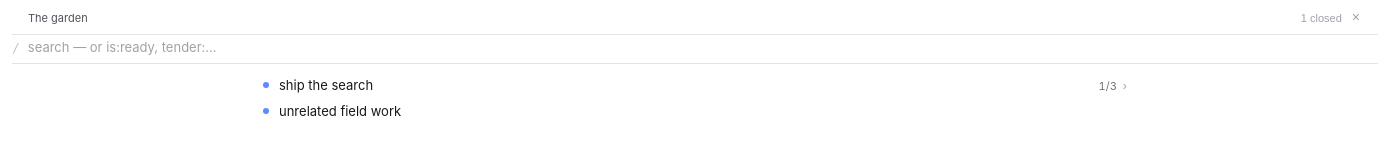
Test: GardenPanel search › shows the line of body that answered the query
Step 1. Type "line of type" into the dropdown → (699, 47), box [28,37,1370,57]
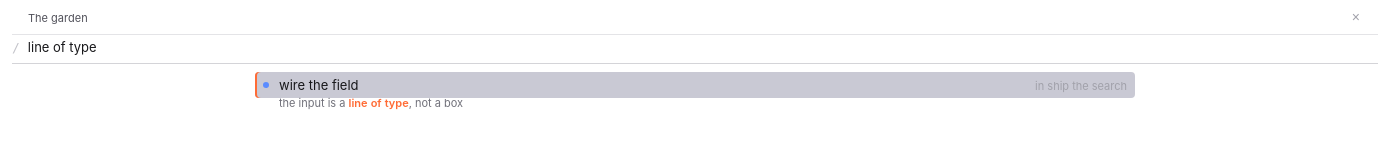
Check: the element with class "garden-row__snippet" shows "a line of type, not a box", box [279,96,463,110]
